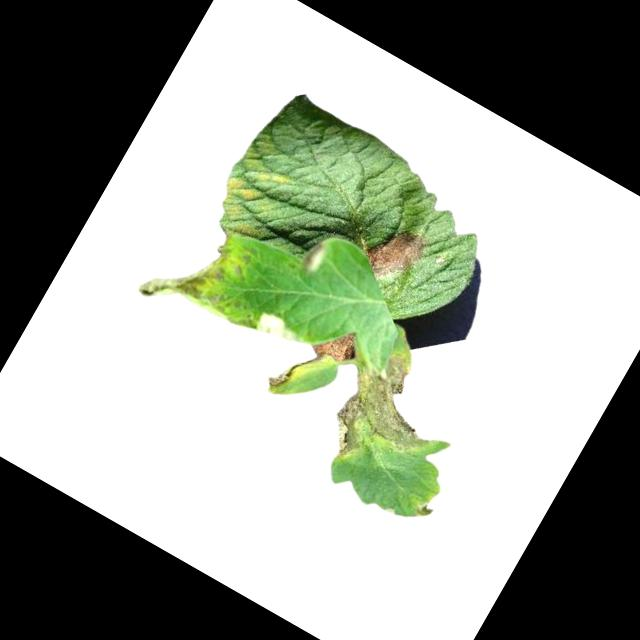Late_blight: (318, 341, 459, 490), (134, 205, 244, 325), (358, 215, 431, 292), (307, 314, 366, 373), (251, 305, 307, 353), (264, 350, 303, 396), (297, 237, 331, 276), (409, 493, 441, 523)
